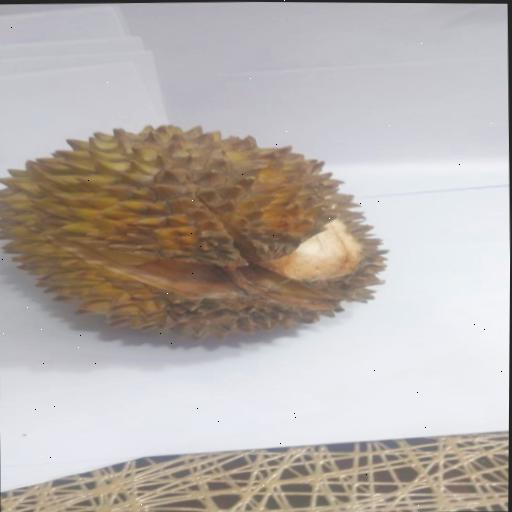rot: (0, 109, 400, 360)
